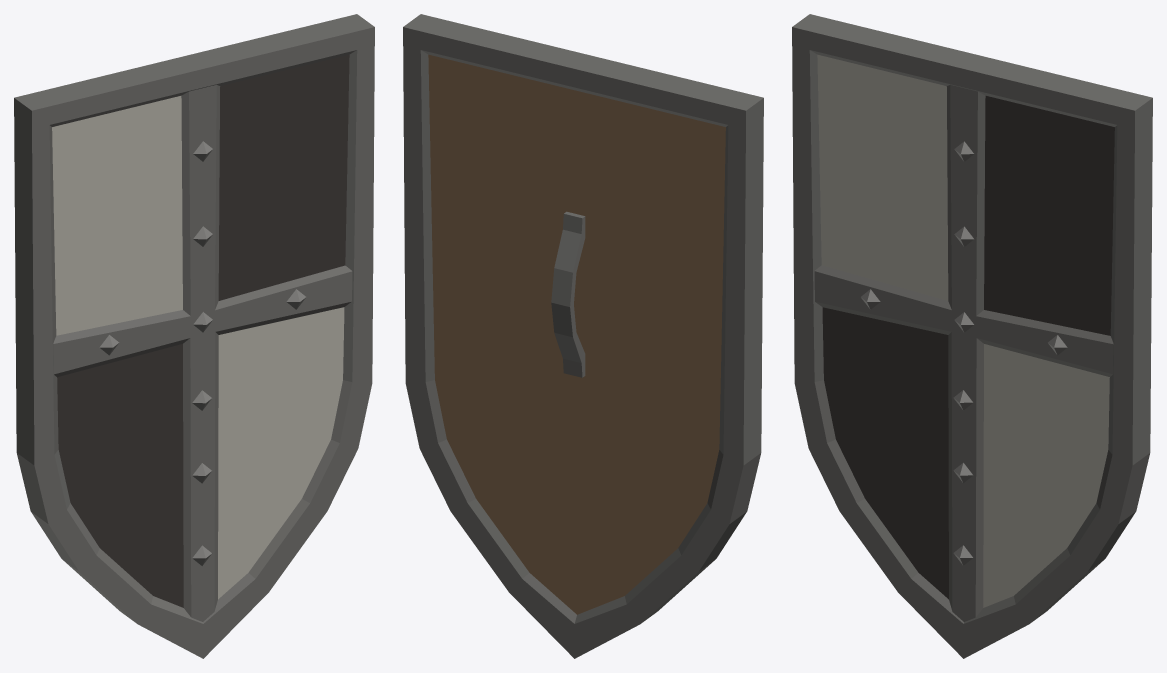
File: SM_pwe_medieval_shield_05a.fbx
3 renders of one model, left to right at view 1: azimuth 30°, elevation 25°; view 2: azimuth 150°, elevation 25°; view 3: azimuth 330°, elevation 25°, orthographic.
Parts seen in each view (by area): view 1: SM_pwe_medieval_shield_05a; view 2: SM_pwe_medieval_shield_05a; view 3: SM_pwe_medieval_shield_05a.
Boxes of the visible parts, x1,y1,x2,y2 form: SM_pwe_medieval_shield_05a: (14, 14, 374, 658); SM_pwe_medieval_shield_05a: (403, 14, 763, 658); SM_pwe_medieval_shield_05a: (792, 14, 1152, 658).
Bounding box in the file's own units: 49.37 × 81.14 × 8.37.
